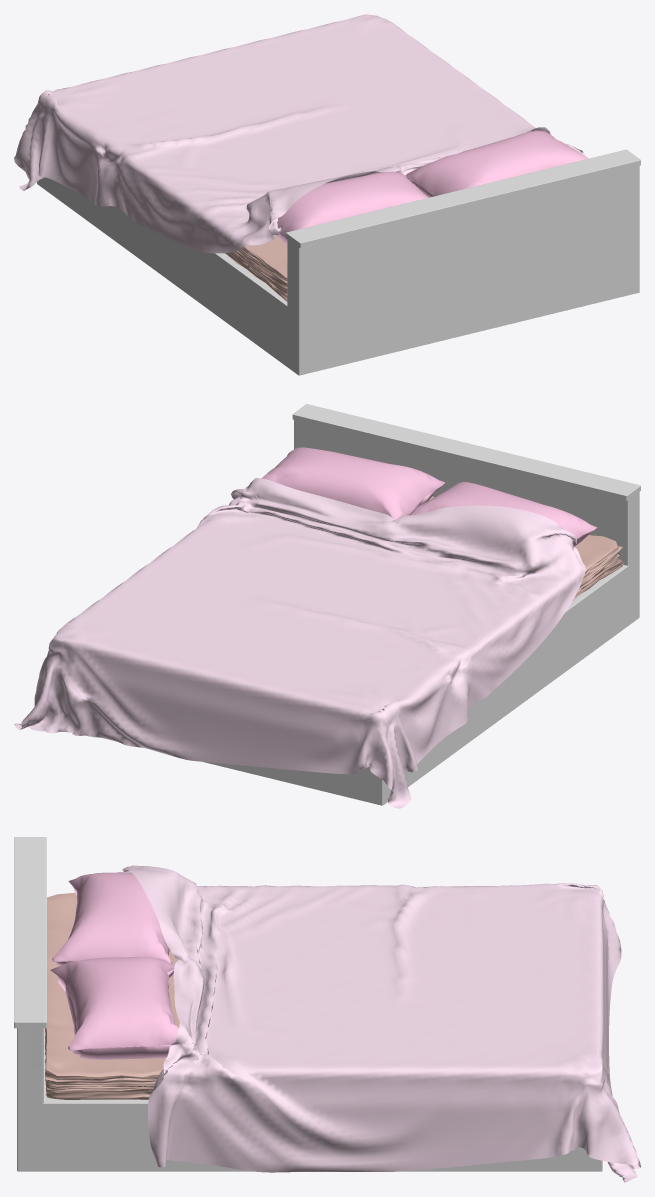
Rendered from bed.glb.
The picture shows the model from 3 angles, top to bottom: view 1: azimuth 30°, elevation 25°; view 2: azimuth 150°, elevation 25°; view 3: azimuth 270°, elevation 25°; orthographic projection. The views are drawn at different scales.
Visible parts, largest first — view 1: Cube.006; view 2: Cube.006; view 3: Cube.006.
Boxes of the visible parts, bbox=[...] form: Cube.006: bbox=[14, 14, 640, 375]; Cube.006: bbox=[14, 404, 640, 808]; Cube.006: bbox=[14, 837, 640, 1182].
Size of the model in its own units: 7.97 by 2.64 by 10.06.
